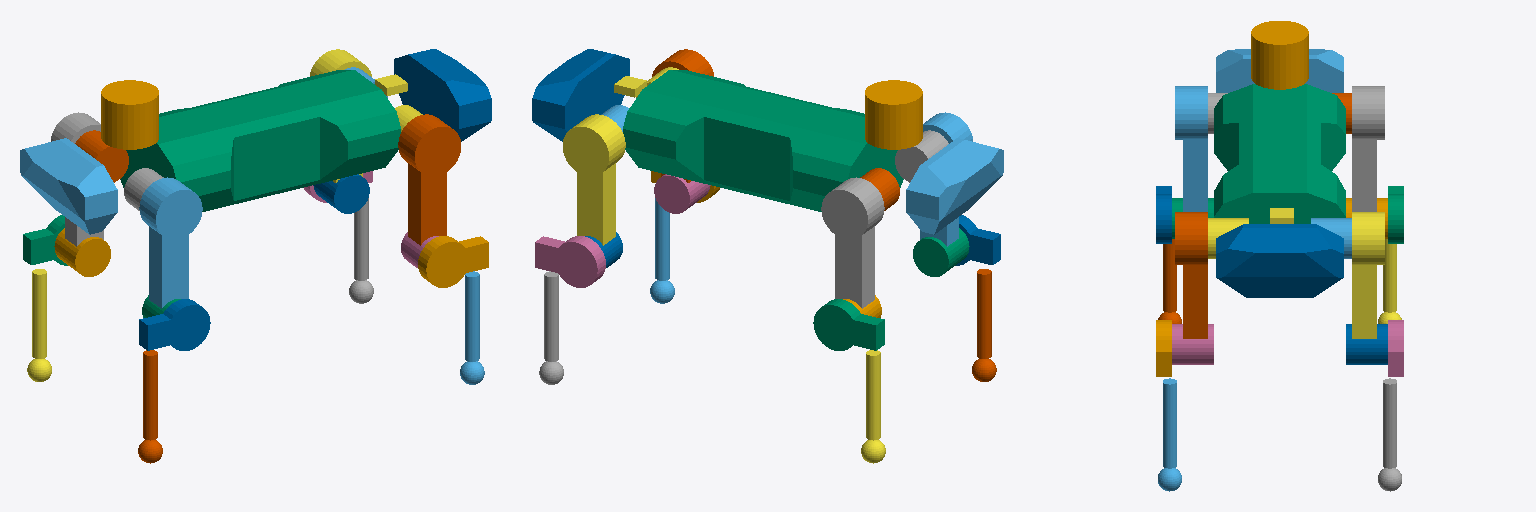
--- Render facts (derived) ---
3 views of the same robot in one strip: view 1: azimuth 30°, elevation 25°; view 2: azimuth 150°, elevation 25°; view 3: azimuth 270°, elevation 25° (orthographic).
Robot: anymal — 62 links, 61 joints (12 revolute, 49 fixed); root link base; default pose: all joints at 0.
Visible links, largest first — view 1: shell, face_rear, face_front, RH_thigh_fixed, RF_thigh_fixed, velodyne_cage, RH_shank_fixed, RF_shank_fixed, RF_FOOT, LH_FOOT, RH_FOOT, LH_KFE (+7 smaller); view 2: shell, face_rear, LH_thigh_fixed, face_front, LF_thigh_fixed, velodyne_cage, LH_shank_fixed, LF_shank_fixed, LF_FOOT, RH_FOOT, LH_FOOT, RH_KFE (+7 smaller); view 3: shell, face_front, velodyne_cage, LF_thigh_fixed, RF_thigh_fixed, LH_thigh_fixed, RH_thigh_fixed, face_rear, LF_FOOT, RF_FOOT, LF_KFE, RF_KFE (+8 smaller).
Boxes of the visible links, x1,y1,x2,y2 form: shell: (120, 70, 400, 211); face_rear: (20, 138, 117, 234); face_front: (394, 49, 491, 141); RH_thigh_fixed: (139, 177, 202, 308); RF_thigh_fixed: (398, 114, 460, 245); velodyne_cage: (101, 80, 158, 149); RH_shank_fixed: (139, 299, 210, 350); RF_shank_fixed: (418, 236, 488, 287); RF_FOOT: (460, 271, 484, 384); LH_FOOT: (27, 269, 51, 381); RH_FOOT: (138, 350, 162, 463); LH_KFE: (54, 228, 110, 276); shell: (623, 70, 903, 211); face_rear: (906, 138, 1003, 234); LH_thigh_fixed: (821, 177, 884, 308); face_front: (532, 49, 629, 141); LF_thigh_fixed: (563, 114, 625, 245); velodyne_cage: (865, 80, 922, 149); LH_shank_fixed: (813, 299, 884, 350); LF_shank_fixed: (535, 236, 605, 287); LF_FOOT: (539, 271, 563, 384); RH_FOOT: (972, 269, 996, 381); LH_FOOT: (861, 350, 885, 463); RH_KFE: (913, 228, 969, 276); shell: (1214, 84, 1345, 223); face_front: (1216, 224, 1343, 297); velodyne_cage: (1251, 21, 1308, 89); LF_thigh_fixed: (1352, 212, 1384, 338); RF_thigh_fixed: (1175, 212, 1207, 338); LH_thigh_fixed: (1352, 86, 1384, 211); RH_thigh_fixed: (1175, 86, 1207, 211); face_rear: (1216, 49, 1343, 92); LF_FOOT: (1378, 378, 1401, 491); RF_FOOT: (1158, 378, 1181, 491); LF_KFE: (1346, 324, 1387, 364); RF_KFE: (1172, 324, 1213, 364).
Bounding box of the posed robot: 1.17 × 0.602 × 0.8526 m (x, y, z).
3 mesh visuals loaded from 2 distinct referenced files (2 Collada DAE).

URDF robot description (anymal):
<?xml version="1.0" encoding="utf-8"?>
<!-- =================================================================================== -->
<!-- |    This document was autogenerated by xacro from anymal_c.urdf.xacro            | -->
<!-- |    EDITING THIS FILE BY HAND IS NOT RECOMMENDED                                 | -->
<!-- =================================================================================== -->
<!-- This file contains the description of the ANYmal robot. -->
<robot name="anymal" xmlns:xacro="http://www.ros.org/wiki/xacro">
    <gazebo>
        <plugin filename="libanymal_gazebo.so" name="gazebo_ros_control">
            <robotNamespace>anymal</robotNamespace>
            <!-- Currently unused -->
            <robotDescription>anymal_description</robotDescription>
            <robotBaseLink>base</robotBaseLink>
        </plugin>
    </gazebo>
    <!-- [kg * m^2] -->
    <!-- Base link -->
    <link name="base">
        <!--      <visual>-->
        <!--        <origin xyz="0 0 0" rpy="0 0 0"/>-->
        <!--        <geometry>-->
        <!-- <mesh
                filename="package://anymal_c_description/urdf/base/3_0_mesh.dae"
                scale="${anymal_meshes_scale}"/> -->
        <!--        </geometry>-->
        <!--      </visual>-->
    </link>
    <!-- Fixed joint to add dummy inertia link -->
    <joint name="base_to_base_inertia" type="fixed">
        <parent link="base"/>
        <child link="base_inertia"/>
        <origin rpy="0 0 0" xyz="0 0 0"/>
    </joint>
    <!-- Dummy inertia link, because KDL cannot have inertia on the base link -->
    <link name="base_inertia">
        <inertial>
            <origin rpy="0 0 0" xyz="-0.021735324742 -0.001486870654 0.024282211582"/>
            <mass value="8.1"/>
            <inertia ixx="0.0373546074128" ixy="-0.00065609405117" ixz="0.00018657925965" iyy="0.746506907991" iyz="-0.000230891041262" izz="0.747061691514"/>
        </inertial>
    </link>
    <!-- Fixed joint to add docking socket -->
    <joint name="base_to_docking_socket" type="fixed">
        <parent link="base"/>
        <child link="docking_socket"/>
        <origin rpy="0 0 0" xyz="0.343 0.0 -0.08"/>
    </joint>
    <!-- Docking socket link -->
    <link name="docking_socket"/>
    <link name="imu_link">
        <visual>
            <origin rpy="0 0 0" xyz="0 0 0.011"/>
            <geometry>
                <box size="0.058 0.058 0.022"/>
            </geometry>
            <material name="orange"/>
        </visual>
<!--        <collision>-->
<!--            <origin rpy="0 0 0" xyz="0 0 0.011"/>-->
<!--            <geometry>-->
<!--                <box size="0.058 0.058 0.022"/>-->
<!--            </geometry>-->
<!--        </collision>-->
        <inertial>
            <mass value="0.05"/>
            <origin xyz="0 0 0"/>
            <inertia ixx="1.60333333333e-05" ixy="0.0" ixz="0.0" iyy="2.80333333333e-05" iyz="0.0" izz="1.60333333333e-05"/>
        </inertial>
    </link>
    <joint name="imu_joint" type="fixed">
        <parent link="base"/>
        <child link="imu_link"/>
        <origin rpy="0 0 0" xyz="0.379624 0.00445 0.0563"/>
    </joint>
    <gazebo reference="imu_link">
        <material>Gazebo/Orange</material>
        <mu1>0.8</mu1>
        <mu2>0.8</mu2>
    </gazebo>
    <gazebo reference="imu_joint">
    </gazebo>
    <gazebo>
        <plugin filename="libany_hector_gazebo_ros_imu.so" name="imu_plugin">
            <robotNamespace>sensors</robotNamespace>
            <bodyName>imu_link</bodyName>
            <frameId>imu_link</frameId>
            <topicName>imu</topicName>
            <biasTopicName>imu/bias</biasTopicName>
            <serviceName>imu/calibrate</serviceName>
            <updateRate>400</updateRate>
        </plugin>
    </gazebo>
    <!-- [kg * m^2] -->
    <!-- [m] -->
    <!-- Camera joint -->
    <!-- Is located between the two back screw holes at ground level. -->
    <joint name="base_to_realsense_d435_left_camera" type="fixed">
        <parent link="base"/>
        <child link="realsense_d435_left_camera"/>
        <origin rpy="0.0 0.523598775598 1.57079632679" xyz="0.0 0.0722 0.0324"/>
    </joint>
    <!-- Camera link -->
    <link name="realsense_d435_left_camera">
        <!--      <visual>-->
        <!--        <origin xyz="0.0 0.0 0.0" rpy="0 0 0"/>-->
        <!--        <geometry>-->
        <!--          <mesh filename="package://any_description/urdf/sensors/realsense/d435/realsense_d435.dae" scale=".001 .001 .001"/>-->
        <!--        </geometry>-->
        <!--      </visual>-->
        <inertial>
            <origin rpy="0 0 0" xyz="0.0642 -0.0102 0.0033"/>
            <mass value="0.2"/>
            <inertia ixx="0.002318" ixy="-1e-06" ixz="9e-06" iyy="0.00206" iyz="0.000333" izz="0.002439"/>
        </inertial>
    </link>
    <!-- Camera parent joint -->
    <!-- Frame lies on the left ir camera according to realsense2_camera urdf. -->
    <joint name="realsense_d435_left_camera_to_camera_parent" type="fixed">
        <parent link="realsense_d435_left_camera"/>
        <child link="realsense_d435_left_camera_parent"/>
        <origin rpy="0.0 0.0 0.0" xyz="0.0255 0.0175 0.0"/>
    </joint>
    <!-- Camera parent link -->
    <link name="realsense_d435_left_camera_parent"/>
    <!-- simulation or bagfile_is_played -->
    <!-- simulation -->
    <!-- [kg * m^2] -->
    <!-- [m] -->
    <!-- Camera joint -->
    <!-- Is located between the two back screw holes at ground level. -->
    <joint name="base_to_realsense_d435_right_camera" type="fixed">
        <parent link="base"/>
        <child link="realsense_d435_right_camera"/>
        <origin rpy="0.0 0.523598775598 -1.57079632679" xyz="0.0 -0.0722 0.0324"/>
    </joint>
    <!-- Camera link -->
    <link name="realsense_d435_right_camera">
        <!--      <visual>-->
        <!--        <origin xyz="0.0 0.0 0.0" rpy="0 0 0"/>-->
        <!--        <geometry>-->
        <!--          <mesh filename="package://any_description/urdf/sensors/realsense/d435/realsense_d435.dae" scale=".001 .001 .001"/>-->
        <!--        </geometry>-->
        <!--      </visual>-->
        <inertial>
            <origin rpy="0 0 0" xyz="0.0642 -0.0102 0.0033"/>
            <mass value="0.2"/>
            <inertia ixx="0.002318" ixy="-1e-06" ixz="9e-06" iyy="0.00206" iyz="0.000333" izz="0.002439"/>
        </inertial>
    </link>
    <!-- Camera parent joint -->
    <!-- Frame lies on the left ir camera according to realsense2_camera urdf. -->
    <joint name="realsense_d435_right_camera_to_camera_parent" type="fixed">
        <parent link="realsense_d435_right_camera"/>
        <child link="realsense_d435_right_camera_parent"/>
        <origin rpy="0.0 0.0 0.0" xyz="0.0255 0.0175 0.0"/>
    </joint>
    <!-- Camera parent link -->
    <link name="realsense_d435_right_camera_parent"/>
    <!-- simulation or bagfile_is_played -->
    <!-- simulation -->
    <!-- [kg * m^2] -->
    <!-- [m] -->
    <!-- parent to cage joint, located between mounting plate on trunk and the cage -->
    <joint name="base_to_velodyne_cage" type="fixed">
        <parent link="base"/>
        <child link="velodyne_cage"/>
        <origin rpy="0 0 3.14159265359" xyz="-0.35 0.0 0.1"/>
    </joint>
    <!-- Velodyne cage link -->
    <link name="velodyne_cage">
        <!--      <visual>-->
        <!--        <origin xyz="0.0 0.0 0.0" rpy="0.0 0.0 0.0"/>-->
        <!--        <geometry>-->
        <!--          <mesh filename="package://anymal_c_description/urdf/sensors/velodyne/velodyne_cage.dae" scale="1.0 1.0 1.0"/>          </geometry>-->
        <!--      </visual>-->
        <!-- temporary visual, copied collision body -->
        <visual>
            <origin rpy="0 0 0" xyz="0 0 0.06"/>
            <geometry>
                <cylinder length="0.12" radius="0.07"/>
            </geometry>
        </visual>
        <collision>
            <origin rpy="0 0 0" xyz="0 0 0.06"/>
            <geometry>
                <capsule length="0.12" radius="0.07"/>
            </geometry>
        </collision>
        <inertial>
            <origin rpy="0.0 0.0 0.0" xyz="0.0642 -0.0102 0.0033"/>
            <mass value="0.2"/>
            <inertia ixx="0.002318" ixy="-1e-06" ixz="9e-06" iyy="0.00206" iyz="0.000333" izz="0.002439"/>
        </inertial>
    </link>
    <!-- [kg * m^2] -->
    <!-- parent to sensor joint -->
    <joint name="velodyne_cage_to_velodyne" type="fixed">
        <parent link="velodyne_cage"/>
        <child link="velodyne"/>
        <origin rpy="0.0 0.0 0.0" xyz="0.0 0.0 0.05"/>
    </joint>
    <!-- Velodyne sensor link -->
    <link name="velodyne">
        <inertial>
            <origin rpy="0.0 0.0 0.0" xyz="0.0642 -0.0102 0.0033"/>
            <mass value="0.5"/>
            <inertia ixx="0.002318" ixy="-1e-06" ixz="9e-06" iyy="0.00206" iyz="0.000333" izz="0.002439"/>
        </inertial>
        <!--      <visual>-->
        <!--        <origin xyz="0 0 0.0" />-->
        <!--        <geometry>-->
        <!--          <mesh filename="package://anymal_c_description/urdf/sensors/velodyne/velodyne.dae" />-->
        <!--        </geometry>-->
        <!--      </visual>-->
    </link>
    <!-- simulation -->
    <!-- [m] -->
    <!-- measured -->
    <!-- Fixed joint base shell -->
    <joint name="base_shell" type="fixed">
        <parent link="base"/>
        <child link="shell"/>
        <origin rpy="0 0 0" xyz="0 0 0"/>
    </joint>
    <!-- Shell link -->
    <link name="shell">
        <visual>
            <origin rpy="0 0 0" xyz="0 0 0"/>
            <geometry>
                <mesh filename="3_0_collision.dae" scale="1.0 1.0 1.0"/>
            </geometry>
        </visual>
        <collision>
            <origin rpy="0 0 0" xyz="0 0 0"/>
            <geometry>
                <box size="0.58 0.14 0.18"/>
            </geometry>
        </collision>
        <collision>
            <origin rpy="0 1.57079632679 0" xyz="0.2175 0.07 0"/>
            <geometry>
                <cylinder length="0.145" radius="0.09"/>
            </geometry>
        </collision>
        <collision>
            <origin rpy="0 1.57079632679 0" xyz="-0.2175 0.07 0"/>
            <geometry>
                <cylinder length="0.145" radius="0.09"/>
            </geometry>
        </collision>
        <collision>
            <origin rpy="0 1.57079632679 0" xyz="0.2175 -0.07 0"/>
            <geometry>
                <cylinder length="0.145" radius="0.09"/>
            </geometry>
        </collision>
        <collision>
            <origin rpy="0 1.57079632679 0" xyz="-0.2175 -0.07 0"/>
            <geometry>
                <cylinder length="0.145" radius="0.09"/>
            </geometry>
        </collision>
        <inertial>
            <origin rpy="0 0 0" xyz="0.001601658696 4.994078e-06 -0.053989505466"/>
            <mass value="1.268141902"/>
            <inertia ixx="0.0135322195912" ixy="-4.331264849e-06" ixz="0.000309123980027" iyy="0.0696430373562" iyz="-5.70632185e-07" izz="0.0735432141695"/>
        </inertial>
        <!-- Shell self filtering -->
        <self_filter>
            <origin rpy="0 0 0" xyz="0 0 0"/>
            <geometry>
                <box size="1.05 0.5 0.25"/>
            </geometry>
        </self_filter>
    </link>
    <!-- [kg * m^2] -->
    <!-- Fixed joint base battery -->
    <joint name="base_battery" type="fixed">
        <parent link="base"/>
        <child link="battery"/>
        <origin rpy="0 0 0" xyz="0 0 0"/>
    </joint>
    <!-- Shell link -->
    <link name="battery">
        <!--      <visual>-->
        <!--        <origin xyz="0 0 0" rpy="0 0 0"/>-->
        <!--       <geometry>-->
        <!--          <mesh-->
        <!--            filename="package://anymal_c_description/urdf/battery/3_0_mesh.dae"-->
        <!--            scale="${anymal_meshes_scale}"/>-->
        <!--        </geometry>-->
        <!--      </visual>-->
        <inertial>
            <origin rpy="0 0 0" xyz="-0.002960176299 -0.000123548844 -0.029760061761"/>
            <mass value="5.55"/>
            <inertia ixx="0.00745552667311" ixy="-0.000137110335303" ixz="0.000113360685966" iyy="0.0789745608826" iyz="1.220264954e-06" izz="0.081437267966"/>
        </inertial>
    </link>
    <!-- [m] -->
    <!-- measured -->
    <!-- Fixed joint base face -->
    <joint name="base_face_front" type="fixed">
        <parent link="base"/>
        <child link="face_front"/>
        <origin rpy="0 0 -0.0" xyz="0.475 0 0"/>
    </joint>
    <!-- Shell link -->
    <link name="face_front">
        <visual>
            <origin rpy="0 0 0" xyz="0 0 0"/>
            <geometry>
                <mesh filename="3_0_simple_mesh.dae" scale="1.0 1.0 1.0"/>
            </geometry>
        </visual>
        <collision>
            <origin rpy="0 0 0" xyz="0 0 0"/>
            <geometry>
                <box size="0.11 0.14 0.18"/>
            </geometry>
        </collision>
        <collision>
            <origin rpy="0 1.57079632679 0" xyz="0 0.07 0"/>
            <geometry>
                <cylinder length="0.11" radius="0.09"/>
            </geometry>
        </collision>
        <collision>
            <origin rpy="0 1.57079632679 0" xyz="0 -0.07 0"/>
            <geometry>
                <cylinder length="0.11" radius="0.09"/>
            </geometry>
        </collision>
        <inertial>
            <origin rpy="0 0 0" xyz="0.058640885474 5.7767683e-05 0.006500935099"/>
            <mass value="0.3"/>
            <inertia ixx="0.00353942466306" ixy="6.9508982e-07" ixz="8.5674409639e-05" iyy="0.000912856093445" iyz="3.44298293e-07" izz="0.00305824458528"/>
        </inertial>
    </link>
    <!-- [kg * m^2] -->
    <!-- [m] -->
    <!-- Camera joint -->
    <!-- Is located between the two back screw holes at ground level. -->
    <joint name="face_front_to_realsense_d435_front_camera" type="fixed">
        <parent link="face_front"/>
        <child link="realsense_d435_front_camera"/>
        <origin rpy="0.0 0.523598775598 0" xyz="0.041 0.0 -0.022"/>
    </joint>
    <!-- Camera link -->
    <link name="realsense_d435_front_camera">
        <!--      <visual>-->
        <!--        <origin xyz="0.0 0.0 0.0" rpy="0 0 0"/>-->
        <!--        <geometry>-->
        <!--          <mesh filename="package://any_description/urdf/sensors/realsense/d435/realsense_d435.dae" scale=".001 .001 .001"/>-->
        <!--        </geometry>-->
        <!--      </visual>-->
        <inertial>
            <origin rpy="0 0 0" xyz="0.0642 -0.0102 0.0033"/>
            <mass value="0.2"/>
            <inertia ixx="0.002318" ixy="-1e-06" ixz="9e-06" iyy="0.00206" iyz="0.000333" izz="0.002439"/>
        </inertial>
    </link>
    <!-- Camera parent joint -->
    <!-- Frame lies on the left ir camera according to realsense2_camera urdf. -->
    <joint name="realsense_d435_front_camera_to_camera_parent" type="fixed">
        <parent link="realsense_d435_front_camera"/>
        <child link="realsense_d435_front_camera_parent"/>
        <origin rpy="0.0 0.0 0.0" xyz="0.0255 0.0175 0.0"/>
    </joint>
    <!-- Camera parent link -->
    <link name="realsense_d435_front_camera_parent"/>
    <!-- simulation or bagfile_is_played -->
    <!-- simulation -->
    <!-- [kg * m^2] -->
    <!-- [m] -->
    <!-- Camera joint -->
    <!-- Is located in the center of the mounting points. -->
    <joint name="face_front_to_blackfly_front_camera" type="fixed">
        <parent link="face_front"/>
        <child link="blackfly_front_camera"/>
        <origin rpy="0 0 0" xyz="0.071 0.0 0.022"/>
    </joint>
    <!-- Camera link -->
    <link name="blackfly_front_camera">
        <!--      <visual>-->
        <!--        <origin xyz="0.0 0.0 0.0" rpy="0 0 0"/>-->
        <!--        <geometry>-->
        <!--          <mesh filename="package://anymal_c_description/urdf/sensors/blackfly/.dae" scale="1.0 1.0 1.0"/>-->
        <!--        </geometry>-->
        <!--      </visual>-->
        <inertial>
            <origin rpy="0 0 0" xyz="0.0642 -0.0102 0.0033"/>
            <mass value="0.1"/>
            <inertia ixx="0.002318" ixy="-1e-06" ixz="9e-06" iyy="0.00206" iyz="0.000333" izz="0.002439"/>
        </inertial>
    </link>
    <!-- Camera parent joint -->
    <joint name="blackfly_front_camera_to_camera_parent" type="fixed">
        <parent link="blackfly_front_camera"/>
        <child link="blackfly_front_camera_parent"/>
        <origin rpy="-1.57079632679 0.0 -1.57079632679" xyz="0.0 0.0 0.0"/>
    </joint>
    <!-- Camera parent link -->
    <link name="blackfly_front_camera_parent"/>
    <!-- simulation -->
    <!-- [m] -->
    <!-- measured -->
    <!-- Fixed joint base face -->
    <joint name="base_face_rear" type="fixed">
        <parent link="base"/>
        <child link="face_rear"/>
        <origin rpy="0 0 3.14159265359" xyz="-0.475 0 0"/>
    </joint>
    <!-- Shell link -->
    <link name="face_rear">
        <visual>
            <origin rpy="0 0 0" xyz="0 0 0"/>
            <geometry>
                <mesh filename="3_0_simple_mesh.dae" scale="1.0 1.0 1.0"/>
            </geometry>
        </visual>
        <collision>
            <origin rpy="0 0 0" xyz="0 0 0"/>
            <geometry>
                <box size="0.11 0.14 0.18"/>
            </geometry>
        </collision>
        <collision>
            <origin rpy="0 1.57079632679 0" xyz="0 0.07 0"/>
            <geometry>
                <cylinder length="0.11" radius="0.09"/>
            </geometry>
        </collision>
        <collision>
            <origin rpy="0 1.57079632679 0" xyz="0 -0.07 0"/>
            <geometry>
                <cylinder length="0.11" radius="0.09"/>
            </geometry>
        </collision>
        <inertial>
            <origin rpy="0 0 0" xyz="0.058640885474 5.7767683e-05 0.006500935099"/>
            <mass value="0.3"/>
            <inertia ixx="0.00353942466306" ixy="6.9508982e-07" ixz="8.5674409639e-05" iyy="0.000912856093445" iyz="3.44298293e-07" izz="0.00305824458528"/>
        </inertial>
    </link>
    <!-- [kg * m^2] -->
    <!-- [m] -->
    <!-- Camera joint -->
    <!-- Is located between the two back screw holes at ground level. -->
    <joint name="face_rear_to_realsense_d435_rear_camera" type="fixed">
        <parent link="face_rear"/>
        <child link="realsense_d435_rear_camera"/>
        <origin rpy="0.0 0.523598775598 0" xyz="0.041 0.0 -0.022"/>
    </joint>
    <!-- Camera link -->
    <link name="realsense_d435_rear_camera">
        <!--      <visual>-->
        <!--        <origin xyz="0.0 0.0 0.0" rpy="0 0 0"/>-->
        <!--        <geometry>-->
        <!--          <mesh filename="package://any_description/urdf/sensors/realsense/d435/realsense_d435.dae" scale=".001 .001 .001"/>-->
        <!--        </geometry>-->
        <!--      </visual>-->
        <inertial>
            <origin rpy="0 0 0" xyz="0.0642 -0.0102 0.0033"/>
            <mass value="0.2"/>
            <inertia ixx="0.002318" ixy="-1e-06" ixz="9e-06" iyy="0.00206" iyz="0.000333" izz="0.002439"/>
        </inertial>
    </link>
    <!-- Camera parent joint -->
    <!-- Frame lies on the left ir camera according to realsense2_camera urdf. -->
    <joint name="realsense_d435_rear_camera_to_camera_parent" type="fixed">
        <parent link="realsense_d435_rear_camera"/>
        <child link="realsense_d435_rear_camera_parent"/>
        <origin rpy="0.0 0.0 0.0" xyz="0.0255 0.0175 0.0"/>
    </joint>
    <!-- Camera parent link -->
    <link name="realsense_d435_rear_camera_parent"/>
    <!-- simulation or bagfile_is_played -->
    <!-- simulation -->
    <!-- [kg * m^2] -->
    <!-- [m] -->
    <!-- Camera joint -->
    <!-- Is located in the center of the mounting points. -->
    <joint name="face_rear_to_blackfly_rear_camera" type="fixed">
        <parent link="face_rear"/>
        <child link="blackfly_rear_camera"/>
        <origin rpy="0 0 0" xyz="0.071 0.0 0.022"/>
    </joint>
    <!-- Camera link -->
    <link name="blackfly_rear_camera">
        <!--      <visual>-->
        <!--        <origin xyz="0.0 0.0 0.0" rpy="0 0 0"/>-->
        <!--        <geometry>-->
        <!--          <mesh filename="package://anymal_c_description/urdf/sensors/blackfly/.dae" scale="1.0 1.0 1.0"/>-->
        <!--        </geometry>-->
        <!--      </visual>-->
        <inertial>
            <origin rpy="0 0 0" xyz="0.0642 -0.0102 0.0033"/>
            <mass value="0.1"/>
            <inertia ixx="0.002318" ixy="-1e-06" ixz="9e-06" iyy="0.00206" iyz="0.000333" izz="0.002439"/>
        </inertial>
    </link>
    <!-- Camera parent joint -->
    <joint name="blackfly_rear_camera_to_camera_parent" type="fixed">
        <parent link="blackfly_rear_camera"/>
        <child link="blackfly_rear_camera_parent"/>
        <origin rpy="-1.57079632679 0.0 -1.57079632679" xyz="0.0 0.0 0.0"/>
    </joint>
    <!-- Camera parent link -->
    <link name="blackfly_rear_camera_parent"/>
    <!-- simulation -->
    <!-- [rad] -->
    <!-- joint base HAA -->
    <joint name="base_LF_HAA" type="fixed">
        <parent link="base"/>
        <child link="LF_HAA"/>
        <origin rpy="0.174532925199 0 0.0" xyz="0.3 0.104 0.0"/>
    </joint>
    <!-- [m] -->
    <!-- [A] -->
    <!-- Drive link -->
    <link name="LF_HAA">
        <!--    <visual>-->
        <!--      <origin xyz="0 0 0" rpy="0 0 0"/>-->
        <!--      <geometry>-->
        <!--      <mesh filename="package://anymal_c_description/urdf/leg/drive/2_5_mesh.dae"-->
        <!--            scale="${anymal_meshes_scale}"/>-->
        <!--      </geometry>-->
        <!--    </visual>-->
        <!-- temporary visual, copied collision body -->
        <visual>
            <origin rpy="0 1.57079632679 0" xyz="-0.07 0 0"/>
            <geometry>
                <cylinder length="0.14" radius="0.05"/>
            </geometry>
        </visual>
        <inertial>
            <origin rpy="0 0 0" xyz="-0.051008462309 4.2382171e-05 0.001928394422"/>
            <mass value="1.371293164"/>
            <inertia ixx="0.00132750404318" ixy="2.667453e-07" ixz="-6.5578582056e-05" iyy="0.00197358077377" iyz="1.305902533e-06" izz="0.00183646051615"/>
        </inertial>
    </link>
    <!-- joint Drive output -->
    <joint name="LF_HAA" type="revolute">
        <parent link="LF_HAA"/>
        <child link="LF_HIP"/>
        <origin rpy="0 0 0" xyz="0 0 0"/>
        <axis xyz="1 0 0"/>
        <dynamics damping="0.0" friction="0.0"/>
    </joint>
    <!-- Drive output link -->
    <link name="LF_HIP">
        <inertial>
            <origin rpy="0 0 0" xyz="0 0 0"/>
            <mass value="0.001"/>
            <inertia ixx="0.000001" ixy="0.0" ixz="0.0" iyy="0.000001" iyz="0.0" izz="0.000001"/>
        </inertial>
    </link>
    <!-- [kg * m^2] -->
    <!-- joint HAA hip -->
    <joint name="LF_HIP_LF_hip_fixed" type="fixed">
        <parent link="LF_HIP"/>
        <child link="LF_hip_fixed"/>
        <origin rpy="-0.174532925199 0 0.0" xyz="0 0 0"/>
    </joint>
    <!-- Hip link -->
    <link name="LF_hip_fixed">
        <!--      <visual>-->
        <!--        <origin xyz="0 0 0" rpy="0 0 ${(front-1)*0.5*pi}"/>-->
        <!--        <geometry>-->
        <!--          <mesh-->
        <!--            filename="package://anymal_c_description/urdf/leg/hip/3_0_mesh${mirrored}.dae"-->
        <!--            scale="${anymal_meshes_scale}"/>-->
        <!--        </geometry>-->
        <!--      </visual>-->
        <inertial>
            <origin rpy="0 0 0" xyz="0.090762388354 0.000733055279 -0.001556575559"/>
            <mass value="0.490061659"/>
            <inertia ixx="0.00072708117274" ixy="-8.107655694e-06" ixz="2.1517369242e-05" iyy="0.00187018767039" iyz="2.508888647e-05" izz="0.00167883666103"/>
        </inertial>
    </link>
    <!-- [rad] -->
    <!-- joint hip HFE -->
    <joint name="LF_hip_fixed_LF_HFE" type="fixed">
        <parent link="LF_hip_fixed"/>
        <child link="LF_HFE"/>
        <origin rpy="0 0 1.57079632679" xyz="0.06 0.0701 0.0"/>
    </joint>
    <!-- [m] -->
    <!-- [A] -->
    <!-- Drive link -->
    <link name="LF_HFE">
        <!--    <visual>-->
        <!--      <origin xyz="0 0 0" rpy="0 0 0"/>-->
        <!--      <geometry>-->
        <!--      <mesh filename="package://anymal_c_description/urdf/leg/drive/2_5_mesh.dae"-->
        <!--            scale="${anymal_meshes_scale}"/>-->
        <!--      </geometry>-->
        <!--    </visual>-->
        <!-- temporary visual, copied collision body -->
        <visual>
            <origin rpy="0 1.57079632679 0" xyz="-0.05 0 0"/>
            <geometry>
                <cylinder length="0.10" radius="0.05"/>
            </geometry>
        </visual>
        <collision>
            <origin rpy="0 1.57079632679 0" xyz="-0.05 0 0"/>
            <geometry>
                <cylinder length="0.10" radius="0.05"/>
            </geometry>
        </collision>
        <inertial>
            <origin rpy="0 0 0" xyz="-0.051008462309 4.2382171e-05 0.001928394422"/>
            <mass value="1.371293164"/>
            <inertia ixx="0.00132750404318" ixy="2.667453e-07" ixz="-6.5578582056e-05" iyy="0.00197358077377" iyz="1.305902533e-06" izz="0.00183646051615"/>
        </inertial>
    </link>
    <!-- joint Drive output -->
    <joint name="LF_HFE" type="revolute">
        <parent link="LF_HFE"/>
        <child link="LF_THIGH"/>
        <origin rpy="0 0 0" xyz="0 0 0"/>
        <axis xyz="1 0 0"/>
        <dynamics damping="0.0" friction="0.0"/>
    </joint>
    <!-- Drive output link -->
    <link name="LF_THIGH">
        <inertial>
            <origin rpy="0 0 0" xyz="0 0 0"/>
            <mass value="0.001"/>
            <inertia ixx="0.000001" ixy="0.0" ixz="0.0" iyy="0.000001" iyz="0.0" izz="0.000001"/>
        </inertial>
    </link>
    <!-- [m] -->
    <!-- measured -->
    <!-- joint HFE thigh -->
    <joint name="LF_THIGH_LF_thigh_fixed" type="fixed">
        <parent link="LF_THIGH"/>
        <child link="LF_thigh_fixed"/>
        <origin rpy="0 0 -1.57079632679" xyz="0 0 0"/>
    </joint>
    <!-- Thigh link -->
    <link name="LF_thigh_fixed">
        <!--      <visual>-->
        <!--        <origin xyz="0 0 0" rpy="0 0 ${(front-1) * 0.5 * pi}"/>-->
        <!--        <geometry>-->
        <!--          <mesh -->
        <!--            filename="package://anymal_c_description/urdf/leg/thigh/3_0_mesh${mirrored}.dae"-->
        <!--            scale="${anymal_meshes_scale}"/>-->
        <!--        </geometry>-->
        <!--      </visual>-->
        <!-- temporary visual, copied collision body -->
        <visual>
            <origin rpy="1.57079632679 0 0" xyz="0 0.04 0"/>
            <geometry>
                <cylinder length="0.08" radius="0.065"/>
            </geometry>
        </visual>
        <visual>
            <origin rpy="0 0 0" xyz="0 0.03 -0.1413135"/>
            <geometry>
                <box size="0.075 0.06 0.282627"/>
            </geometry>
        </visual>
        <!-- Thigh collision -->
        <collision>
            <origin rpy="1.57079632679 0 0" xyz="0 0.04 0"/>
            <geometry>
                <cylinder length="0.08" radius="0.065"/>
            </geometry>
        </collision>
        <collision>
            <origin rpy="0 0 0" xyz="0 0.03 -0.1413135"/>
            <geometry>
                <box size="0.075 0.06 0.282627"/>
            </geometry>
        </collision>
        <inertial>
            <origin rpy="0 0 0" xyz="0.0127 0.0171 -0.1414"/>
            <mass value="0.977826611"/>
            <inertia ixx="0.014928" ixy="-8.8e-05" ixz="-0.001792" iyy="0.0158490785585" iyz="0.000654" izz="0.001794"/>
        </inertial>
    </link>
    <!-- [rad] -->
    <!-- joint thigh KFE -->
    <joint name="LF_thigh_fixed_LF_KFE" type="fixed">
        <parent link="LF_thigh_fixed"/>
        <child link="LF_KFE"/>
        <origin rpy="-0.261799387799 0 1.57079632679" xyz="0.0 0.086887 -0.282627"/>
    </joint>
    <!-- [m] -->
    <!-- [A] -->
    <!-- Drive link -->
    <link name="LF_KFE">
        <!--    <visual>-->
        <!--      <origin xyz="0 0 0" rpy="0 0 0"/>-->
        <!--      <geometry>-->
        <!--      <mesh filename="package://anymal_c_description/urdf/leg/drive/2_5_mesh.dae"-->
        <!--            scale="${anymal_meshes_scale}"/>-->
        <!--      </geometry>-->
        <!--    </visual>-->
        <!-- temporary visual, copied collision body -->
        <visual>
            <origin rpy="0 1.57079632679 0" xyz="-0.05 0 0"/>
            <geometry>
                <cylinder length="0.10" radius="0.05"/>
            </geometry>
        </visual>
        <collision>
            <origin rpy="0 1.57079632679 0" xyz="-0.05 0 0"/>
            <geometry>
                <cylinder length="0.10" radius="0.05"/>
            </geometry>
        </collision>
        <inertial>
            <origin rpy="0 0 0" xyz="-0.051008462309 4.2382171e-05 0.001928394422"/>
            <mass value="1.371293164"/>
            <inertia ixx="0.00132750404318" ixy="2.667453e-07" ixz="-6.5578582056e-05" iyy="0.00197358077377" iyz="1.305902533e-06" izz="0.00183646051615"/>
        </inertial>
    </link>
    <!-- joint Drive output -->
    <joint name="LF_KFE" type="revolute">
        <parent link="LF_KFE"/>
        <child link="LF_SHANK"/>
        <origin rpy="0 0 0" xyz="0 0 0"/>
        <axis xyz="1 0 0"/>
        <dynamics damping="0.0" friction="0.0"/>
    </joint>
    <!-- Drive output link -->
    <link name="LF_SHANK">
        <inertial>
            <origin rpy="0 0 0" xyz="0 0 0"/>
            <mass value="0.001"/>
            <inertia ixx="0.000001" ixy="0.0" ixz="0.0" iyy="0.000001" iyz="0.0" izz="0.000001"/>
        </inertial>
    </link>
    <!-- [m] -->
    <!-- measured -->
    <!-- joint KFE shank -->
    <joint name="LF_shank_LF_shank_fixed" type="fixed">
        <parent link="LF_SHANK"/>
        <child link="LF_shank_fixed"/>
        <origin rpy="0 0.261799387799 -1.57079632679" xyz="0 0 0"/>
    </joint>
    <!-- Shank link -->
    <link name="LF_shank_fixed">
        <!--      <visual>-->
        <!--        <origin xyz="0 0 0" rpy="0 0 ${(front-1)*0.5*pi}"/>-->
        <!--        <geometry>-->
        <!--          <mesh -->
        <!--            filename="package://anymal_c_description/urdf/leg/shank/3_0_mesh${mirrored}.dae"-->
        <!--            scale="${anymal_meshes_scale}"/>-->
        <!--        </geometry>-->
        <!--      </visual>-->
        <!-- temporary visual, copied collision body -->
        <visual>
            <origin rpy="1.57079632679 0 0" xyz="0 0.02 0"/>
            <geometry>
                <cylinder length="0.04" radius="0.06"/>
            </geometry>
        </visual>
        <visual>
            <origin rpy="1.57079632679 0 0" xyz="0.057499 0.02 0"/>
            <geometry>
                <box size="0.114998 0.0675 0.04"/>
            </geometry>
        </visual>
        <!-- Shank collision -->
        <collision>
            <origin rpy="1.57079632679 0 0" xyz="0 0.02 0"/>
            <geometry>
                <cylinder length="0.04" radius="0.06"/>
            </geometry>
        </collision>
        <collision>
            <origin rpy="1.57079632679 0 0" xyz="0.057499 0.02 0"/>
            <geometry>
                <box size="0.114998 0.0675 0.04"/>
            </geometry>
        </collision>
        <inertial>
            <origin rpy="0 0 0" xyz="0.032845496765 0.020087452943 0.000819464952"/>
            <mass value="0.3203472"/>
            <inertia ixx="0.000315561389972" ixy="-1.0430108417e-05" ixz="1.4120800915e-05" iyy="0.00107764668281" iyz="3.60309972e-07" izz="0.000870072710319"/>
        </inertial>
    </link>
    <!-- [m] -->
    <!-- joint shank foot -->
    <joint name="LF_shank_fixed_LF_FOOT" type="fixed">
        <parent link="LF_shank_fixed"/>
        <child link="LF_FOOT"/>
        <origin rpy="0 0 0" xyz="0.08748 0.006 -0.342504"/>
    </joint>
    <!-- Foot link -->
    <link name="LF_FOOT">
        <!--      <visual>-->
        <!--        <origin xyz="0 0 0" rpy="0 0 ${(front-1)*0.5*pi}"/>-->
        <!--        <geometry>-->
        <!--          <mesh-->
        <!--              filename="package://anymal_c_description/urdf/leg/foot/3_0_mesh.dae"-->
        <!--              scale="${anymal_meshes_scale}"/>-->
        <!--        </geometry>-->
        <!--      </visual>-->
        <!-- temporary visual, copied collision body -->
        <visual>
            <origin rpy="0 0 0" xyz="0 0 0.171252"/>
            <geometry>
                <cylinder length="0.22504" radius="0.0175"/>
            </geometry>
        </visual>
        <visual>
            <origin xyz="0 0 0.0225"/>
            <geometry>
                <sphere radius="0.03"/>
            </geometry>
        </visual>
        <!-- Adapter collision -->
        <collision>
            <origin rpy="0 0 0" xyz="0 0 0.171252"/>
            <geometry>
                <cylinder length="0.22504" radius="0.0175"/>
            </geometry>
        </collision>
        <!-- Foot collision -->
        <collision>
            <origin xyz="0 0 0.0225"/>
            <geometry>
                <sphere radius="0.03"/>
            </geometry>
        </collision>
        <inertial>
            <origin rpy="0 0 0" xyz="0.08640071854 4.566e-08 0.158952618655"/>
            <mass value="0.205145377"/>
            <inertia ixx="0.00315582473384" ixy="2.7197e-10" ixz="0.000388520744383" iyy="0.00316202017111" iyz="8.6741e-11" izz="8.1052626806e-05"/>
        </inertial>
    </link>
    <!-- Gazebo customization -->
    <gazebo reference="LF_FOOT">
        <kp>1000000.0</kp>
        <kd>100.0</kd>
        <mu1>0.8</mu1>
        <mu2>0.8</mu2>
    </gazebo>
    <!-- [rad] -->
    <!-- joint base HAA -->
    <joint name="base_RF_HAA" type="fixed">
        <parent link="base"/>
        <child link="RF_HAA"/>
        <origin rpy="-0.174532925199 0 0.0" xyz="0.3 -0.104 0.0"/>
    </joint>
    <!-- [m] -->
    <!-- [A] -->
    <!-- Drive link -->
    <link name="RF_HAA">
        <!--    <visual>-->
        <!--      <origin xyz="0 0 0" rpy="0 0 0"/>-->
        <!--      <geometry>-->
        <!--      <mesh filename="package://anymal_c_description/urdf/leg/drive/2_5_mesh.dae"-->
        <!--            scale="${anymal_meshes_scale}"/>-->
        <!--      </geometry>-->
        <!--    </visual>-->
        <!-- temporary visual, copied collision body -->
        <visual>
            <origin rpy="0 1.57079632679 0" xyz="-0.07 0 0"/>
            <geometry>
                <cylinder length="0.14" radius="0.05"/>
            </geometry>
        </visual>
        <inertial>
            <origin rpy="0 0 0" xyz="-0.051008462309 4.2382171e-05 0.001928394422"/>
            <mass value="1.371293164"/>
            <inertia ixx="0.00132750404318" ixy="2.667453e-07" ixz="-6.5578582056e-05" iyy="0.00197358077377" iyz="1.305902533e-06" izz="0.00183646051615"/>
        </inertial>
    </link>
    <!-- joint Drive output -->
    <joint name="RF_HAA" type="revolute">
        <parent link="RF_HAA"/>
        <child link="RF_HIP"/>
        <origin rpy="0 0 0" xyz="0 0 0"/>
        <axis xyz="1 0 0"/>
        <dynamics damping="0.0" friction="0.0"/>
    </joint>
    <!-- Drive output link -->
    <link name="RF_HIP">
        <inertial>
            <origin rpy="0 0 0" xyz="0 0 0"/>
            <mass value="0.001"/>
            <inertia ixx="0.000001" ixy="0.0" ixz="0.0" iyy="0.000001" iyz="0.0" izz="0.000001"/>
        </inertial>
    </link>
    <!-- [kg * m^2] -->
    <!-- joint HAA hip -->
    <joint name="RF_HIP_RF_hip_fixed" type="fixed">
        <parent link="RF_HIP"/>
        <child link="RF_hip_fixed"/>
        <origin rpy="0.174532925199 0 0.0" xyz="0 0 0"/>
    </joint>
    <!-- Hip link -->
    <link name="RF_hip_fixed">
        <!--      <visual>-->
        <!--        <origin xyz="0 0 0" rpy="0 0 ${(front-1)*0.5*pi}"/>-->
        <!--        <geometry>-->
        <!--          <mesh-->
        <!--            filename="package://anymal_c_description/urdf/leg/hip/3_0_mesh${mirrored}.dae"-->
        <!--            scale="${anymal_meshes_scale}"/>-->
        <!--        </geometry>-->
        <!--      </visual>-->
        <inertial>
            <origin rpy="0 0 0" xyz="0.090762388354 -0.000733055279 -0.001556575559"/>
            <mass value="0.490061659"/>
            <inertia ixx="0.00072708117274" ixy="8.107655694e-06" ixz="2.1517369242e-05" iyy="0.00187018767039" iyz="-2.508888647e-05" izz="0.00167883666103"/>
        </inertial>
    </link>
    <!-- [rad] -->
    <!-- joint hip HFE -->
    <joint name="RF_hip_fixed_RF_HFE" type="fixed">
        <parent link="RF_hip_fixed"/>
        <child link="RF_HFE"/>
        <origin rpy="0 0 -1.57079632679" xyz="0.06 -0.0701 0.0"/>
    </joint>
    <!-- [m] -->
    <!-- [A] -->
    <!-- Drive link -->
    <link name="RF_HFE">
        <!--    <visual>-->
        <!--      <origin xyz="0 0 0" rpy="0 0 0"/>-->
        <!--      <geometry>-->
        <!--      <mesh filename="package://anymal_c_description/urdf/leg/drive/2_5_mesh.dae"-->
        <!--            scale="${anymal_meshes_scale}"/>-->
        <!--      </geometry>-->
        <!--    </visual>-->
        <!-- temporary visual, copied collision body -->
        <visual>
            <origin rpy="0 1.57079632679 0" xyz="-0.05 0 0"/>
            <geometry>
                <cylinder length="0.10" radius="0.05"/>
            </geometry>
        </visual>
        <collision>
            <origin rpy="0 1.57079632679 0" xyz="-0.05 0 0"/>
            <geometry>
                <cylinder length="0.10" radius="0.05"/>
            </geometry>
        </collision>
        <inertial>
            <origin rpy="0 0 0" xyz="-0.051008462309 4.2382171e-05 0.001928394422"/>
            <mass value="1.371293164"/>
            <inertia ixx="0.00132750404318" ixy="2.667453e-07" ixz="-6.5578582056e-05" iyy="0.00197358077377" iyz="1.305902533e-06" izz="0.00183646051615"/>
        </inertial>
    </link>
    <!-- joint Drive output -->
    <joint name="RF_HFE" type="revolute">
        <parent link="RF_HFE"/>
        <child link="RF_THIGH"/>
        <origin rpy="0 0 0" xyz="0 0 0"/>
        <axis xyz="-1 0 0"/>
        <dynamics damping="0.0" friction="0.0"/>
    </joint>
    <!-- Drive output link -->
    <link name="RF_THIGH">
        <inertial>
            <origin rpy="0 0 0" xyz="0 0 0"/>
            <mass value="0.001"/>
            <inertia ixx="0.000001" ixy="0.0" ixz="0.0" iyy="0.000001" iyz="0.0" izz="0.000001"/>
        </inertial>
    </link>
    <!-- [m] -->
    <!-- measured -->
    <!-- joint HFE thigh -->
    <joint name="RF_THIGH_RF_thigh_fixed" type="fixed">
        <parent link="RF_THIGH"/>
        <child link="RF_thigh_fixed"/>
        <origin rpy="0 0 1.57079632679" xyz="0 0 0"/>
    </joint>
    <!-- Thigh link -->
    <link name="RF_thigh_fixed">
        <!--      <visual>-->
        <!--        <origin xyz="0 0 0" rpy="0 0 ${(front-1) * 0.5 * pi}"/>-->
        <!--        <geometry>-->
        <!--          <mesh -->
        <!--            filename="package://anymal_c_description/urdf/leg/thigh/3_0_mesh${mirrored}.dae"-->
        <!--            scale="${anymal_meshes_scale}"/>-->
        <!--        </geometry>-->
        <!--      </visual>-->
        <!-- temporary visual, copied collision body -->
        <visual>
            <origin rpy="1.57079632679 0 0" xyz="0 -0.04 0"/>
            <geometry>
                <cylinder length="0.08" radius="0.065"/>
            </geometry>
        </visual>
        <visual>
            <origin rpy="0 0 0" xyz="0 -0.03 -0.1413135"/>
            <geometry>
                <box size="0.075 0.06 0.282627"/>
            </geometry>
        </visual>
        <!-- Thigh collision -->
        <collision>
            <origin rpy="1.57079632679 0 0" xyz="0 -0.04 0"/>
            <geometry>
                <cylinder length="0.08" radius="0.065"/>
            </geometry>
        </collision>
        <collision>
            <origin rpy="0 0 0" xyz="0 -0.03 -0.1413135"/>
            <geometry>
                <box size="0.075 0.06 0.282627"/>
            </geometry>
        </collision>
        <inertial>
            <origin rpy="0 0 0" xyz="0.0127 -0.0171 -0.1414"/>
            <mass value="0.977826611"/>
            <inertia ixx="0.014928" ixy="8.8e-05" ixz="-0.001792" iyy="0.0158490785585" iyz="-0.000654" izz="0.001794"/>
        </inertial>
    </link>
    <!-- [rad] -->
    <!-- joint thigh KFE -->
    <joint name="RF_thigh_fixed_RF_KFE" type="fixed">
        <parent link="RF_thigh_fixed"/>
        <child link="RF_KFE"/>
        <origin rpy="0.261799387799 0 -1.57079632679" xyz="0.0 -0.086887 -0.282627"/>
    </joint>
    <!-- [m] -->
    <!-- [A] -->
    <!-- Drive link -->
    <link name="RF_KFE">
        <!--    <visual>-->
        <!--      <origin xyz="0 0 0" rpy="0 0 0"/>-->
        <!--      <geometry>-->
        <!--      <mesh filename="package://anymal_c_description/urdf/leg/drive/2_5_mesh.dae"-->
        <!--            scale="${anymal_meshes_scale}"/>-->
        <!--      </geometry>-->
        <!--    </visual>-->
        <!-- temporary visual, copied collision body -->
        <visual>
            <origin rpy="0 1.57079632679 0" xyz="-0.05 0 0"/>
            <geometry>
                <cylinder length="0.10" radius="0.05"/>
            </geometry>
        </visual>
        <collision>
            <origin rpy="0 1.57079632679 0" xyz="-0.05 0 0"/>
            <geometry>
                <cylinder length="0.10" radius="0.05"/>
            </geometry>
        </collision>
        <inertial>
            <origin rpy="0 0 0" xyz="-0.051008462309 4.2382171e-05 0.001928394422"/>
            <mass value="1.371293164"/>
            <inertia ixx="0.00132750404318" ixy="2.667453e-07" ixz="-6.5578582056e-05" iyy="0.00197358077377" iyz="1.305902533e-06" izz="0.00183646051615"/>
        </inertial>
    </link>
    <!-- joint Drive output -->
    <joint name="RF_KFE" type="revolute">
        <parent link="RF_KFE"/>
        <child link="RF_SHANK"/>
        <origin rpy="0 0 0" xyz="0 0 0"/>
        <axis xyz="-1 0 0"/>
        <dynamics damping="0.0" friction="0.0"/>
    </joint>
    <!-- Drive output link -->
    <link name="RF_SHANK">
        <inertial>
            <origin rpy="0 0 0" xyz="0 0 0"/>
            <mass value="0.001"/>
            <inertia ixx="0.000001" ixy="0.0" ixz="0.0" iyy="0.000001" iyz="0.0" izz="0.000001"/>
        </inertial>
    </link>
    <!-- [m] -->
    <!-- measured -->
    <!-- joint KFE shank -->
    <joint name="RF_shank_RF_shank_fixed" type="fixed">
        <parent link="RF_SHANK"/>
        <child link="RF_shank_fixed"/>
        <origin rpy="0 0.261799387799 1.57079632679" xyz="0 0 0"/>
    </joint>
    <!-- Shank link -->
    <link name="RF_shank_fixed">
        <!--      <visual>-->
        <!--        <origin xyz="0 0 0" rpy="0 0 ${(front-1)*0.5*pi}"/>-->
        <!--        <geometry>-->
        <!--          <mesh -->
        <!--            filename="package://anymal_c_description/urdf/leg/shank/3_0_mesh${mirrored}.dae"-->
        <!--            scale="${anymal_meshes_scale}"/>-->
        <!--        </geometry>-->
        <!--      </visual>-->
        <!-- temporary visual, copied collision body -->
        <visual>
            <origin rpy="1.57079632679 0 0" xyz="0 -0.02 0"/>
            <geometry>
                <cylinder length="0.04" radius="0.06"/>
            </geometry>
        </visual>
        <visual>
            <origin rpy="1.57079632679 0 0" xyz="0.057499 -0.02 0"/>
            <geometry>
                <box size="0.114998 0.0675 0.04"/>
            </geometry>
        </visual>
        <!-- Shank collision -->
        <collision>
            <origin rpy="1.57079632679 0 0" xyz="0 -0.02 0"/>
            <geometry>
                <cylinder length="0.04" radius="0.06"/>
            </geometry>
        </collision>
        <collision>
            <origin rpy="1.57079632679 0 0" xyz="0.057499 -0.02 0"/>
            <geometry>
                <box size="0.114998 0.0675 0.04"/>
            </geometry>
        </collision>
        <inertial>
            <origin rpy="0 0 0" xyz="0.032845496765 -0.020087452943 0.000819464952"/>
            <mass value="0.3203472"/>
            <inertia ixx="0.000315561389972" ixy="1.0430108417e-05" ixz="1.4120800915e-05" iyy="0.00107764668281" iyz="-3.60309972e-07" izz="0.000870072710319"/>
        </inertial>
    </link>
    <!-- [m] -->
    <!-- joint shank foot -->
    <joint name="RF_shank_fixed_RF_FOOT" type="fixed">
        <parent link="RF_shank_fixed"/>
        <child link="RF_FOOT"/>
        <origin rpy="0 0 0" xyz="0.08748 -0.006 -0.342504"/>
    </joint>
    <!-- Foot link -->
    <link name="RF_FOOT">
        <!--      <visual>-->
        <!--        <origin xyz="0 0 0" rpy="0 0 ${(front-1)*0.5*pi}"/>-->
        <!--        <geometry>-->
        <!--          <mesh-->
        <!--              filename="package://anymal_c_description/urdf/leg/foot/3_0_mesh.dae"-->
        <!--              scale="${anymal_meshes_scale}"/>-->
        <!--        </geometry>-->
        <!--      </visual>-->
        <!-- temporary visual, copied collision body -->
        <visual>
            <origin rpy="0 0 0" xyz="0 0 0.171252"/>
            <geometry>
                <cylinder length="0.22504" radius="0.0175"/>
            </geometry>
        </visual>
        <visual>
            <origin xyz="0 0 0.0225"/>
            <geometry>
                <sphere radius="0.03"/>
            </geometry>
        </visual>
        <!-- Adapter collision -->
        <collision>
            <origin rpy="0 0 0" xyz="0 0 0.171252"/>
            <geometry>
                <cylinder length="0.22504" radius="0.0175"/>
            </geometry>
        </collision>
        <!-- Foot collision -->
        <collision>
            <origin xyz="0 0 0.0225"/>
            <geometry>
                <sphere radius="0.03"/>
            </geometry>
        </collision>
        <inertial>
            <origin rpy="0 0 0" xyz="0.08640071854 -4.566e-08 0.158952618655"/>
            <mass value="0.205145377"/>
            <inertia ixx="0.00315582473384" ixy="-2.7197e-10" ixz="0.000388520744383" iyy="0.00316202017111" iyz="-8.6741e-11" izz="8.1052626806e-05"/>
        </inertial>
    </link>
    <!-- Gazebo customization -->
    <gazebo reference="RF_FOOT">
        <kp>1000000.0</kp>
        <kd>100.0</kd>
        <mu1>0.8</mu1>
        <mu2>0.8</mu2>
    </gazebo>
    <!-- [rad] -->
    <!-- joint base HAA -->
    <joint name="base_LH_HAA" type="fixed">
        <parent link="base"/>
        <child link="LH_HAA"/>
        <origin rpy="-0.174532925199 0 -3.14159265359" xyz="-0.3 0.104 0.0"/>
    </joint>
    <!-- [m] -->
    <!-- [A] -->
    <!-- Drive link -->
    <link name="LH_HAA">
        <!--    <visual>-->
        <!--      <origin xyz="0 0 0" rpy="0 0 0"/>-->
        <!--      <geometry>-->
        <!--      <mesh filename="package://anymal_c_description/urdf/leg/drive/2_5_mesh.dae"-->
        <!--            scale="${anymal_meshes_scale}"/>-->
        <!--      </geometry>-->
        <!--    </visual>-->
        <!-- temporary visual, copied collision body -->
        <visual>
            <origin rpy="0 1.57079632679 0" xyz="-0.07 0 0"/>
            <geometry>
                <cylinder length="0.14" radius="0.05"/>
            </geometry>
        </visual>
        <inertial>
            <origin rpy="0 0 0" xyz="-0.051008462309 4.2382171e-05 0.001928394422"/>
            <mass value="1.371293164"/>
            <inertia ixx="0.00132750404318" ixy="2.667453e-07" ixz="-6.5578582056e-05" iyy="0.00197358077377" iyz="1.305902533e-06" izz="0.00183646051615"/>
        </inertial>
    </link>
    <!-- joint Drive output -->
    <joint name="LH_HAA" type="revolute">
        <parent link="LH_HAA"/>
        <child link="LH_HIP"/>
        <origin rpy="0 0 0" xyz="0 0 0"/>
        <axis xyz="-1 0 0"/>
        <dynamics damping="0.0" friction="0.0"/>
    </joint>
    <!-- Drive output link -->
    <link name="LH_HIP">
        <inertial>
            <origin rpy="0 0 0" xyz="0 0 0"/>
            <mass value="0.001"/>
            <inertia ixx="0.000001" ixy="0.0" ixz="0.0" iyy="0.000001" iyz="0.0" izz="0.000001"/>
        </inertial>
    </link>
    <!-- [kg * m^2] -->
    <!-- joint HAA hip -->
    <joint name="LH_HIP_LH_hip_fixed" type="fixed">
        <parent link="LH_HIP"/>
        <child link="LH_hip_fixed"/>
        <origin rpy="-0.174532925199 0 -3.14159265359" xyz="0 0 0"/>
    </joint>
    <!-- Hip link -->
    <link name="LH_hip_fixed">
        <!--      <visual>-->
        <!--        <origin xyz="0 0 0" rpy="0 0 ${(front-1)*0.5*pi}"/>-->
        <!--        <geometry>-->
        <!--          <mesh-->
        <!--            filename="package://anymal_c_description/urdf/leg/hip/3_0_mesh${mirrored}.dae"-->
        <!--            scale="${anymal_meshes_scale}"/>-->
        <!--        </geometry>-->
        <!--      </visual>-->
        <inertial>
            <origin rpy="0 0 0" xyz="-0.090762388354 0.000733055279 -0.001556575559"/>
            <mass value="0.490061659"/>
            <inertia ixx="0.00072708117274" ixy="8.107655694e-06" ixz="-2.1517369242e-05" iyy="0.00187018767039" iyz="2.508888647e-05" izz="0.00167883666103"/>
        </inertial>
    </link>
    <!-- [rad] -->
    <!-- joint hip HFE -->
    <joint name="LH_hip_fixed_LH_HFE" type="fixed">
        <parent link="LH_hip_fixed"/>
        <child link="LH_HFE"/>
        <origin rpy="0 0 1.57079632679" xyz="-0.06 0.0701 0.0"/>
    </joint>
    <!-- [m] -->
    <!-- [A] -->
    <!-- Drive link -->
    <link name="LH_HFE">
        <!--    <visual>-->
        <!--      <origin xyz="0 0 0" rpy="0 0 0"/>-->
        <!--      <geometry>-->
        <!--      <mesh filename="package://anymal_c_description/urdf/leg/drive/2_5_mesh.dae"-->
        <!--            scale="${anymal_meshes_scale}"/>-->
        <!--      </geometry>-->
        <!--    </visual>-->
        <!-- temporary visual, copied collision body -->
        <visual>
            <origin rpy="0 1.57079632679 0" xyz="-0.05 0 0"/>
            <geometry>
                <cylinder length="0.10" radius="0.05"/>
            </geometry>
        </visual>
        <collision>
            <origin rpy="0 1.57079632679 0" xyz="-0.05 0 0"/>
            <geometry>
                <cylinder length="0.10" radius="0.05"/>
            </geometry>
        </collision>
        <inertial>
            <origin rpy="0 0 0" xyz="-0.051008462309 4.2382171e-05 0.001928394422"/>
            <mass value="1.371293164"/>
            <inertia ixx="0.00132750404318" ixy="2.667453e-07" ixz="-6.5578582056e-05" iyy="0.00197358077377" iyz="1.305902533e-06" izz="0.00183646051615"/>
        </inertial>
    </link>
    <!-- joint Drive output -->
    <joint name="LH_HFE" type="revolute">
        <parent link="LH_HFE"/>
        <child link="LH_THIGH"/>
        <origin rpy="0 0 0" xyz="0 0 0"/>
        <axis xyz="1 0 0"/>
        <dynamics damping="0.0" friction="0.0"/>
    </joint>
    <!-- Drive output link -->
    <link name="LH_THIGH">
        <inertial>
            <origin rpy="0 0 0" xyz="0 0 0"/>
            <mass value="0.001"/>
            <inertia ixx="0.000001" ixy="0.0" ixz="0.0" iyy="0.000001" iyz="0.0" izz="0.000001"/>
        </inertial>
    </link>
    <!-- [m] -->
    <!-- measured -->
    <!-- joint HFE thigh -->
    <joint name="LH_THIGH_LH_thigh_fixed" type="fixed">
        <parent link="LH_THIGH"/>
        <child link="LH_thigh_fixed"/>
        <origin rpy="0 0 -1.57079632679" xyz="0 0 0"/>
    </joint>
    <!-- Thigh link -->
    <link name="LH_thigh_fixed">
        <!--      <visual>-->
        <!--        <origin xyz="0 0 0" rpy="0 0 ${(front-1) * 0.5 * pi}"/>-->
        <!--        <geometry>-->
        <!--          <mesh -->
        <!--            filename="package://anymal_c_description/urdf/leg/thigh/3_0_mesh${mirrored}.dae"-->
        <!--            scale="${anymal_meshes_scale}"/>-->
        <!--        </geometry>-->
        <!--      </visual>-->
        <!-- temporary visual, copied collision body -->
        <visual>
            <origin rpy="1.57079632679 0 0" xyz="0 0.04 0"/>
            <geometry>
                <cylinder length="0.08" radius="0.065"/>
            </geometry>
        </visual>
        <visual>
            <origin rpy="0 0 0" xyz="0 0.03 -0.1413135"/>
            <geometry>
                <box size="0.075 0.06 0.282627"/>
            </geometry>
        </visual>
        <!-- Thigh collision -->
        <collision>
            <origin rpy="1.57079632679 0 0" xyz="0 0.04 0"/>
            <geometry>
                <cylinder length="0.08" radius="0.065"/>
            </geometry>
        </collision>
        <collision>
            <origin rpy="0 0 0" xyz="0 0.03 -0.1413135"/>
            <geometry>
                <box size="0.075 0.06 0.282627"/>
            </geometry>
        </collision>
        <inertial>
            <origin rpy="0 0 0" xyz="-0.0127 0.0171 -0.1414"/>
            <mass value="0.977826611"/>
            <inertia ixx="0.014928" ixy="8.8e-05" ixz="0.001792" iyy="0.0158490785585" iyz="0.000654" izz="0.001794"/>
        </inertial>
    </link>
    <!-- [rad] -->
    <!-- joint thigh KFE -->
    <joint name="LH_thigh_fixed_LH_KFE" type="fixed">
        <parent link="LH_thigh_fixed"/>
        <child link="LH_KFE"/>
        <origin rpy="0.261799387799 0 1.57079632679" xyz="-0.0 0.086887 -0.282627"/>
    </joint>
    <!-- [m] -->
    <!-- [A] -->
    <!-- Drive link -->
    <link name="LH_KFE">
        <!--    <visual>-->
        <!--      <origin xyz="0 0 0" rpy="0 0 0"/>-->
        <!--      <geometry>-->
        <!--      <mesh filename="package://anymal_c_description/urdf/leg/drive/2_5_mesh.dae"-->
        <!--            scale="${anymal_meshes_scale}"/>-->
        <!--      </geometry>-->
        <!--    </visual>-->
        <!-- temporary visual, copied collision body -->
        <visual>
            <origin rpy="0 1.57079632679 0" xyz="-0.05 0 0"/>
            <geometry>
                <cylinder length="0.10" radius="0.05"/>
            </geometry>
        </visual>
        <collision>
            <origin rpy="0 1.57079632679 0" xyz="-0.05 0 0"/>
            <geometry>
                <cylinder length="0.10" radius="0.05"/>
            </geometry>
        </collision>
        <inertial>
            <origin rpy="0 0 0" xyz="-0.051008462309 4.2382171e-05 0.001928394422"/>
            <mass value="1.371293164"/>
            <inertia ixx="0.00132750404318" ixy="2.667453e-07" ixz="-6.5578582056e-05" iyy="0.00197358077377" iyz="1.305902533e-06" izz="0.00183646051615"/>
        </inertial>
    </link>
    <!-- joint Drive output -->
    <joint name="LH_KFE" type="revolute">
        <parent link="LH_KFE"/>
        <child link="LH_SHANK"/>
        <origin rpy="0 0 0" xyz="0 0 0"/>
        <axis xyz="1 0 0"/>
        <dynamics damping="0.0" friction="0.0"/>
    </joint>
    <!-- Drive output link -->
    <link name="LH_SHANK">
        <inertial>
            <origin rpy="0 0 0" xyz="0 0 0"/>
            <mass value="0.001"/>
            <inertia ixx="0.000001" ixy="0.0" ixz="0.0" iyy="0.000001" iyz="0.0" izz="0.000001"/>
        </inertial>
    </link>
    <!-- [m] -->
    <!-- measured -->
    <!-- joint KFE shank -->
    <joint name="LH_shank_LH_shank_fixed" type="fixed">
        <parent link="LH_SHANK"/>
        <child link="LH_shank_fixed"/>
        <origin rpy="0 -0.261799387799 -1.57079632679" xyz="0 0 0"/>
    </joint>
    <!-- Shank link -->
    <link name="LH_shank_fixed">
        <!--      <visual>-->
        <!--        <origin xyz="0 0 0" rpy="0 0 ${(front-1)*0.5*pi}"/>-->
        <!--        <geometry>-->
        <!--          <mesh -->
        <!--            filename="package://anymal_c_description/urdf/leg/shank/3_0_mesh${mirrored}.dae"-->
        <!--            scale="${anymal_meshes_scale}"/>-->
        <!--        </geometry>-->
        <!--      </visual>-->
        <!-- temporary visual, copied collision body -->
        <visual>
            <origin rpy="1.57079632679 0 0" xyz="0 0.02 0"/>
            <geometry>
                <cylinder length="0.04" radius="0.06"/>
            </geometry>
        </visual>
        <visual>
            <origin rpy="1.57079632679 0 0" xyz="-0.057499 0.02 0"/>
            <geometry>
                <box size="0.114998 0.0675 0.04"/>
            </geometry>
        </visual>
        <!-- Shank collision -->
        <collision>
            <origin rpy="1.57079632679 0 0" xyz="0 0.02 0"/>
            <geometry>
                <cylinder length="0.04" radius="0.06"/>
            </geometry>
        </collision>
        <collision>
            <origin rpy="1.57079632679 0 0" xyz="-0.057499 0.02 0"/>
            <geometry>
                <box size="0.114998 0.0675 0.04"/>
            </geometry>
        </collision>
        <inertial>
            <origin rpy="0 0 0" xyz="-0.032845496765 0.020087452943 0.000819464952"/>
            <mass value="0.3203472"/>
            <inertia ixx="0.000315561389972" ixy="1.0430108417e-05" ixz="-1.4120800915e-05" iyy="0.00107764668281" iyz="3.60309972e-07" izz="0.000870072710319"/>
        </inertial>
    </link>
    <!-- [m] -->
    <!-- joint shank foot -->
    <joint name="LH_shank_fixed_LH_FOOT" type="fixed">
        <parent link="LH_shank_fixed"/>
        <child link="LH_FOOT"/>
        <origin rpy="0 0 0" xyz="-0.08748 0.006 -0.342504"/>
    </joint>
    <!-- Foot link -->
    <link name="LH_FOOT">
        <!--      <visual>-->
        <!--        <origin xyz="0 0 0" rpy="0 0 ${(front-1)*0.5*pi}"/>-->
        <!--        <geometry>-->
        <!--          <mesh-->
        <!--              filename="package://anymal_c_description/urdf/leg/foot/3_0_mesh.dae"-->
        <!--              scale="${anymal_meshes_scale}"/>-->
        <!--        </geometry>-->
        <!--      </visual>-->
        <!-- temporary visual, copied collision body -->
        <visual>
            <origin rpy="0 0 0" xyz="0 0 0.171252"/>
            <geometry>
                <cylinder length="0.22504" radius="0.0175"/>
            </geometry>
        </visual>
        <visual>
            <origin xyz="0 0 0.0225"/>
            <geometry>
                <sphere radius="0.03"/>
            </geometry>
        </visual>
        <!-- Adapter collision -->
        <collision>
            <origin rpy="0 0 0" xyz="0 0 0.171252"/>
            <geometry>
                <cylinder length="0.22504" radius="0.0175"/>
            </geometry>
        </collision>
        <!-- Foot collision -->
        <collision>
            <origin xyz="0 0 0.0225"/>
            <geometry>
                <sphere radius="0.03"/>
            </geometry>
        </collision>
        <inertial>
            <origin rpy="0 0 0" xyz="-0.08640071854 4.566e-08 0.158952618655"/>
            <mass value="0.205145377"/>
            <inertia ixx="0.00315582473384" ixy="-2.7197e-10" ixz="-0.000388520744383" iyy="0.00316202017111" iyz="8.6741e-11" izz="8.1052626806e-05"/>
        </inertial>
    </link>
    <!-- Gazebo customization -->
    <gazebo reference="LH_FOOT">
        <kp>1000000.0</kp>
        <kd>100.0</kd>
        <mu1>0.8</mu1>
        <mu2>0.8</mu2>
    </gazebo>
    <!-- [rad] -->
    <!-- joint base HAA -->
    <joint name="base_RH_HAA" type="fixed">
        <parent link="base"/>
        <child link="RH_HAA"/>
        <origin rpy="0.174532925199 0 -3.14159265359" xyz="-0.3 -0.104 0.0"/>
    </joint>
    <!-- [m] -->
    <!-- [A] -->
    <!-- Drive link -->
    <link name="RH_HAA">
        <!--    <visual>-->
        <!--      <origin xyz="0 0 0" rpy="0 0 0"/>-->
        <!--      <geometry>-->
        <!--      <mesh filename="package://anymal_c_description/urdf/leg/drive/2_5_mesh.dae"-->
        <!--            scale="${anymal_meshes_scale}"/>-->
        <!--      </geometry>-->
        <!--    </visual>-->
        <!-- temporary visual, copied collision body -->
        <visual>
            <origin rpy="0 1.57079632679 0" xyz="-0.07 0 0"/>
            <geometry>
                <cylinder length="0.14" radius="0.05"/>
            </geometry>
        </visual>
        <inertial>
            <origin rpy="0 0 0" xyz="-0.051008462309 4.2382171e-05 0.001928394422"/>
            <mass value="1.371293164"/>
            <inertia ixx="0.00132750404318" ixy="2.667453e-07" ixz="-6.5578582056e-05" iyy="0.00197358077377" iyz="1.305902533e-06" izz="0.00183646051615"/>
        </inertial>
    </link>
    <!-- joint Drive output -->
    <joint name="RH_HAA" type="revolute">
        <parent link="RH_HAA"/>
        <child link="RH_HIP"/>
        <origin rpy="0 0 0" xyz="0 0 0"/>
        <axis xyz="-1 0 0"/>
        <dynamics damping="0.0" friction="0.0"/>
    </joint>
    <!-- Drive output link -->
    <link name="RH_HIP">
        <inertial>
            <origin rpy="0 0 0" xyz="0 0 0"/>
            <mass value="0.001"/>
            <inertia ixx="0.000001" ixy="0.0" ixz="0.0" iyy="0.000001" iyz="0.0" izz="0.000001"/>
        </inertial>
    </link>
    <!-- [kg * m^2] -->
    <!-- joint HAA hip -->
    <joint name="RH_HIP_RH_hip_fixed" type="fixed">
        <parent link="RH_HIP"/>
        <child link="RH_hip_fixed"/>
        <origin rpy="0.174532925199 0 -3.14159265359" xyz="0 0 0"/>
    </joint>
    <!-- Hip link -->
    <link name="RH_hip_fixed">
        <!--      <visual>-->
        <!--        <origin xyz="0 0 0" rpy="0 0 ${(front-1)*0.5*pi}"/>-->
        <!--        <geometry>-->
        <!--          <mesh-->
        <!--            filename="package://anymal_c_description/urdf/leg/hip/3_0_mesh${mirrored}.dae"-->
        <!--            scale="${anymal_meshes_scale}"/>-->
        <!--        </geometry>-->
        <!--      </visual>-->
        <inertial>
            <origin rpy="0 0 0" xyz="-0.090762388354 -0.000733055279 -0.001556575559"/>
            <mass value="0.490061659"/>
            <inertia ixx="0.00072708117274" ixy="-8.107655694e-06" ixz="-2.1517369242e-05" iyy="0.00187018767039" iyz="-2.508888647e-05" izz="0.00167883666103"/>
        </inertial>
    </link>
    <!-- [rad] -->
    <!-- joint hip HFE -->
    <joint name="RH_hip_fixed_RH_HFE" type="fixed">
        <parent link="RH_hip_fixed"/>
        <child link="RH_HFE"/>
        <origin rpy="0 0 -1.57079632679" xyz="-0.06 -0.0701 0.0"/>
    </joint>
    <!-- [m] -->
    <!-- [A] -->
    <!-- Drive link -->
    <link name="RH_HFE">
        <!--    <visual>-->
        <!--      <origin xyz="0 0 0" rpy="0 0 0"/>-->
        <!--      <geometry>-->
        <!--      <mesh filename="package://anymal_c_description/urdf/leg/drive/2_5_mesh.dae"-->
        <!--            scale="${anymal_meshes_scale}"/>-->
        <!--      </geometry>-->
        <!--    </visual>-->
        <!-- temporary visual, copied collision body -->
        <visual>
            <origin rpy="0 1.57079632679 0" xyz="-0.05 0 0"/>
            <geometry>
                <cylinder length="0.10" radius="0.05"/>
            </geometry>
        </visual>
        <collision>
            <origin rpy="0 1.57079632679 0" xyz="-0.05 0 0"/>
            <geometry>
                <cylinder length="0.10" radius="0.05"/>
            </geometry>
        </collision>
        <inertial>
            <origin rpy="0 0 0" xyz="-0.051008462309 4.2382171e-05 0.001928394422"/>
            <mass value="1.371293164"/>
            <inertia ixx="0.00132750404318" ixy="2.667453e-07" ixz="-6.5578582056e-05" iyy="0.00197358077377" iyz="1.305902533e-06" izz="0.00183646051615"/>
        </inertial>
    </link>
    <!-- joint Drive output -->
    <joint name="RH_HFE" type="revolute">
        <parent link="RH_HFE"/>
        <child link="RH_THIGH"/>
        <origin rpy="0 0 0" xyz="0 0 0"/>
        <axis xyz="-1 0 0"/>
        <dynamics damping="0.0" friction="0.0"/>
    </joint>
    <!-- Drive output link -->
    <link name="RH_THIGH">
        <inertial>
            <origin rpy="0 0 0" xyz="0 0 0"/>
            <mass value="0.001"/>
            <inertia ixx="0.000001" ixy="0.0" ixz="0.0" iyy="0.000001" iyz="0.0" izz="0.000001"/>
        </inertial>
    </link>
    <!-- [m] -->
    <!-- measured -->
    <!-- joint HFE thigh -->
    <joint name="RH_THIGH_RH_thigh_fixed" type="fixed">
        <parent link="RH_THIGH"/>
        <child link="RH_thigh_fixed"/>
        <origin rpy="0 0 1.57079632679" xyz="0 0 0"/>
    </joint>
    <!-- Thigh link -->
    <link name="RH_thigh_fixed">
        <!--      <visual>-->
        <!--        <origin xyz="0 0 0" rpy="0 0 ${(front-1) * 0.5 * pi}"/>-->
        <!--        <geometry>-->
        <!--          <mesh -->
        <!--            filename="package://anymal_c_description/urdf/leg/thigh/3_0_mesh${mirrored}.dae"-->
        <!--            scale="${anymal_meshes_scale}"/>-->
        <!--        </geometry>-->
        <!--      </visual>-->
        <!-- temporary visual, copied collision body -->
        <visual>
            <origin rpy="1.57079632679 0 0" xyz="0 -0.04 0"/>
            <geometry>
                <cylinder length="0.08" radius="0.065"/>
            </geometry>
        </visual>
        <visual>
            <origin rpy="0 0 0" xyz="0 -0.03 -0.1413135"/>
            <geometry>
                <box size="0.075 0.06 0.282627"/>
            </geometry>
        </visual>
        <!-- Thigh collision -->
        <collision>
            <origin rpy="1.57079632679 0 0" xyz="0 -0.04 0"/>
            <geometry>
                <cylinder length="0.08" radius="0.065"/>
            </geometry>
        </collision>
        <collision>
            <origin rpy="0 0 0" xyz="0 -0.03 -0.1413135"/>
            <geometry>
                <box size="0.075 0.06 0.282627"/>
            </geometry>
        </collision>
        <inertial>
            <origin rpy="0 0 0" xyz="-0.0127 -0.0171 -0.1414"/>
            <mass value="0.977826611"/>
            <inertia ixx="0.014928" ixy="-8.8e-05" ixz="0.001792" iyy="0.0158490785585" iyz="-0.000654" izz="0.001794"/>
        </inertial>
    </link>
    <!-- [rad] -->
    <!-- joint thigh KFE -->
    <joint name="RH_thigh_fixed_RH_KFE" type="fixed">
        <parent link="RH_thigh_fixed"/>
        <child link="RH_KFE"/>
        <origin rpy="-0.261799387799 0 -1.57079632679" xyz="-0.0 -0.086887 -0.282627"/>
    </joint>
    <!-- [m] -->
    <!-- [A] -->
    <!-- Drive link -->
    <link name="RH_KFE">
        <!--    <visual>-->
        <!--      <origin xyz="0 0 0" rpy="0 0 0"/>-->
        <!--      <geometry>-->
        <!--      <mesh filename="package://anymal_c_description/urdf/leg/drive/2_5_mesh.dae"-->
        <!--            scale="${anymal_meshes_scale}"/>-->
        <!--      </geometry>-->
        <!--    </visual>-->
        <!-- temporary visual, copied collision body -->
        <visual>
            <origin rpy="0 1.57079632679 0" xyz="-0.05 0 0"/>
            <geometry>
                <cylinder length="0.10" radius="0.05"/>
            </geometry>
        </visual>
        <collision>
            <origin rpy="0 1.57079632679 0" xyz="-0.05 0 0"/>
            <geometry>
                <cylinder length="0.10" radius="0.05"/>
            </geometry>
        </collision>
        <inertial>
            <origin rpy="0 0 0" xyz="-0.051008462309 4.2382171e-05 0.001928394422"/>
            <mass value="1.371293164"/>
            <inertia ixx="0.00132750404318" ixy="2.667453e-07" ixz="-6.5578582056e-05" iyy="0.00197358077377" iyz="1.305902533e-06" izz="0.00183646051615"/>
        </inertial>
    </link>
    <!-- joint Drive output -->
    <joint name="RH_KFE" type="revolute">
        <parent link="RH_KFE"/>
        <child link="RH_SHANK"/>
        <origin rpy="0 0 0" xyz="0 0 0"/>
        <axis xyz="-1 0 0"/>
        <dynamics damping="0.0" friction="0.0"/>
    </joint>
    <!-- Drive output link -->
    <link name="RH_SHANK">
        <inertial>
            <origin rpy="0 0 0" xyz="0 0 0"/>
            <mass value="0.001"/>
            <inertia ixx="0.000001" ixy="0.0" ixz="0.0" iyy="0.000001" iyz="0.0" izz="0.000001"/>
        </inertial>
    </link>
    <!-- [m] -->
    <!-- measured -->
    <!-- joint KFE shank -->
    <joint name="RH_shank_RH_shank_fixed" type="fixed">
        <parent link="RH_SHANK"/>
        <child link="RH_shank_fixed"/>
        <origin rpy="0 -0.261799387799 1.57079632679" xyz="0 0 0"/>
    </joint>
    <!-- Shank link -->
    <link name="RH_shank_fixed">
        <!--      <visual>-->
        <!--        <origin xyz="0 0 0" rpy="0 0 ${(front-1)*0.5*pi}"/>-->
        <!--        <geometry>-->
        <!--          <mesh -->
        <!--            filename="package://anymal_c_description/urdf/leg/shank/3_0_mesh${mirrored}.dae"-->
        <!--            scale="${anymal_meshes_scale}"/>-->
        <!--        </geometry>-->
        <!--      </visual>-->
        <!-- temporary visual, copied collision body -->
        <visual>
            <origin rpy="1.57079632679 0 0" xyz="0 -0.02 0"/>
            <geometry>
                <cylinder length="0.04" radius="0.06"/>
            </geometry>
        </visual>
        <visual>
            <origin rpy="1.57079632679 0 0" xyz="-0.057499 -0.02 0"/>
            <geometry>
                <box size="0.114998 0.0675 0.04"/>
            </geometry>
        </visual>
        <!-- Shank collision -->
        <collision>
            <origin rpy="1.57079632679 0 0" xyz="0 -0.02 0"/>
            <geometry>
                <cylinder length="0.04" radius="0.06"/>
            </geometry>
        </collision>
        <collision>
            <origin rpy="1.57079632679 0 0" xyz="-0.057499 -0.02 0"/>
            <geometry>
                <box size="0.114998 0.0675 0.04"/>
            </geometry>
        </collision>
        <inertial>
            <origin rpy="0 0 0" xyz="-0.032845496765 -0.020087452943 0.000819464952"/>
            <mass value="0.3203472"/>
            <inertia ixx="0.000315561389972" ixy="-1.0430108417e-05" ixz="-1.4120800915e-05" iyy="0.00107764668281" iyz="-3.60309972e-07" izz="0.000870072710319"/>
        </inertial>
    </link>
    <!-- [m] -->
    <!-- joint shank foot -->
    <joint name="RH_shank_fixed_RH_FOOT" type="fixed">
        <parent link="RH_shank_fixed"/>
        <child link="RH_FOOT"/>
        <origin rpy="0 0 0" xyz="-0.08748 -0.006 -0.342504"/>
    </joint>
    <!-- Foot link -->
    <link name="RH_FOOT">
        <!--      <visual>-->
        <!--        <origin xyz="0 0 0" rpy="0 0 ${(front-1)*0.5*pi}"/>-->
        <!--        <geometry>-->
        <!--          <mesh-->
        <!--              filename="package://anymal_c_description/urdf/leg/foot/3_0_mesh.dae"-->
        <!--              scale="${anymal_meshes_scale}"/>-->
        <!--        </geometry>-->
        <!--      </visual>-->
        <!-- temporary visual, copied collision body -->
        <visual>
            <origin rpy="0 0 0" xyz="0 0 0.171252"/>
            <geometry>
                <cylinder length="0.22504" radius="0.0175"/>
            </geometry>
        </visual>
        <visual>
            <origin xyz="0 0 0.0225"/>
            <geometry>
                <sphere radius="0.03"/>
            </geometry>
        </visual>
        <!-- Adapter collision -->
        <collision>
            <origin rpy="0 0 0" xyz="0 0 0.171252"/>
            <geometry>
                <cylinder length="0.22504" radius="0.0175"/>
            </geometry>
        </collision>
        <!-- Foot collision -->
        <collision>
            <origin xyz="0 0 0.0225"/>
            <geometry>
                <sphere radius="0.03"/>
            </geometry>
        </collision>
        <inertial>
            <origin rpy="0 0 0" xyz="-0.08640071854 -4.566e-08 0.158952618655"/>
            <mass value="0.205145377"/>
            <inertia ixx="0.00315582473384" ixy="2.7197e-10" ixz="-0.000388520744383" iyy="0.00316202017111" iyz="-8.6741e-11" izz="8.1052626806e-05"/>
        </inertial>
    </link>
    <!-- Gazebo customization -->
    <gazebo reference="RH_FOOT">
        <kp>1000000.0</kp>
        <kd>100.0</kd>
        <mu1>0.8</mu1>
        <mu2>0.8</mu2>
    </gazebo>
</robot>
